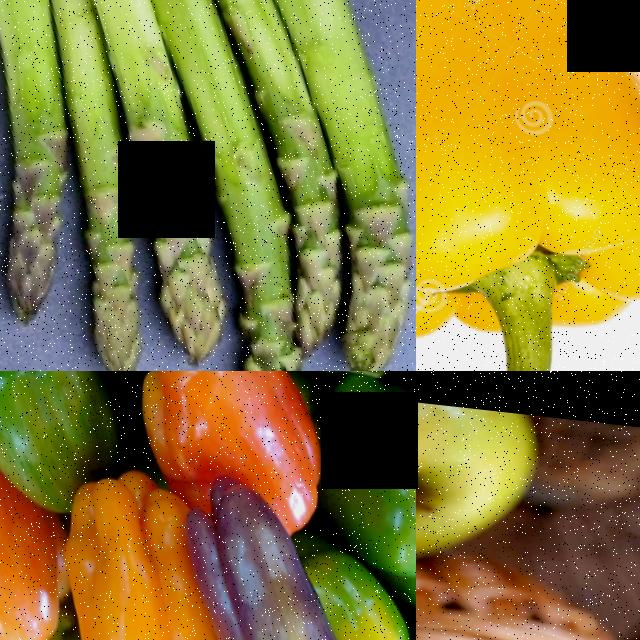apple: (416, 379, 580, 621)
asparagus: (93, 42, 244, 354), (0, 0, 102, 334), (191, 176, 316, 371), (60, 149, 167, 371), (324, 183, 416, 371), (265, 169, 360, 342)
bell pepper: (416, 0, 640, 371), (184, 466, 377, 640), (51, 472, 226, 640), (109, 371, 310, 506), (330, 388, 416, 616), (0, 432, 61, 640), (0, 371, 105, 485)
